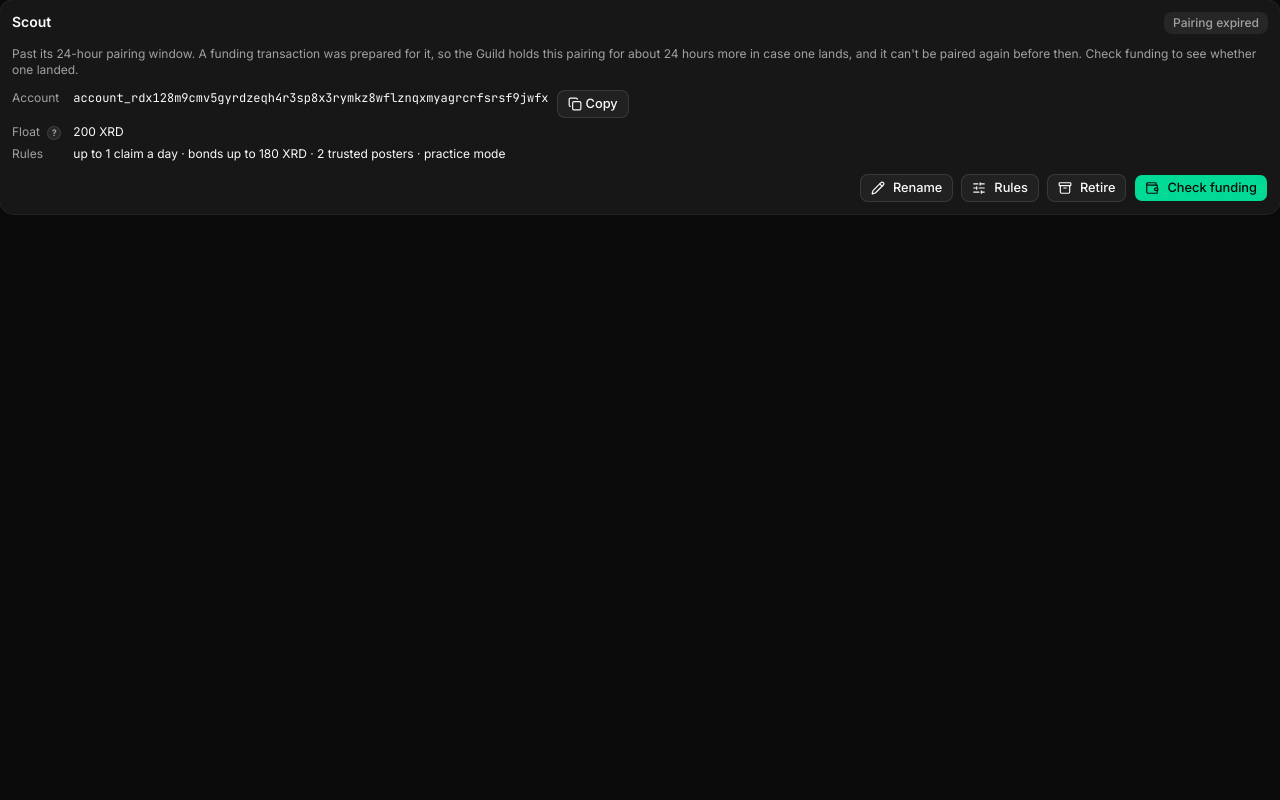
Test case: an expired pairing whose funding may still be landing offers 'Check funding' › with a transaction prepared minutes ago, the note and the explainer are ONE status, and nothing claims 'no funding landed'
Click the button "Check funding" at (1201, 188), box [1134, 174, 1268, 202]
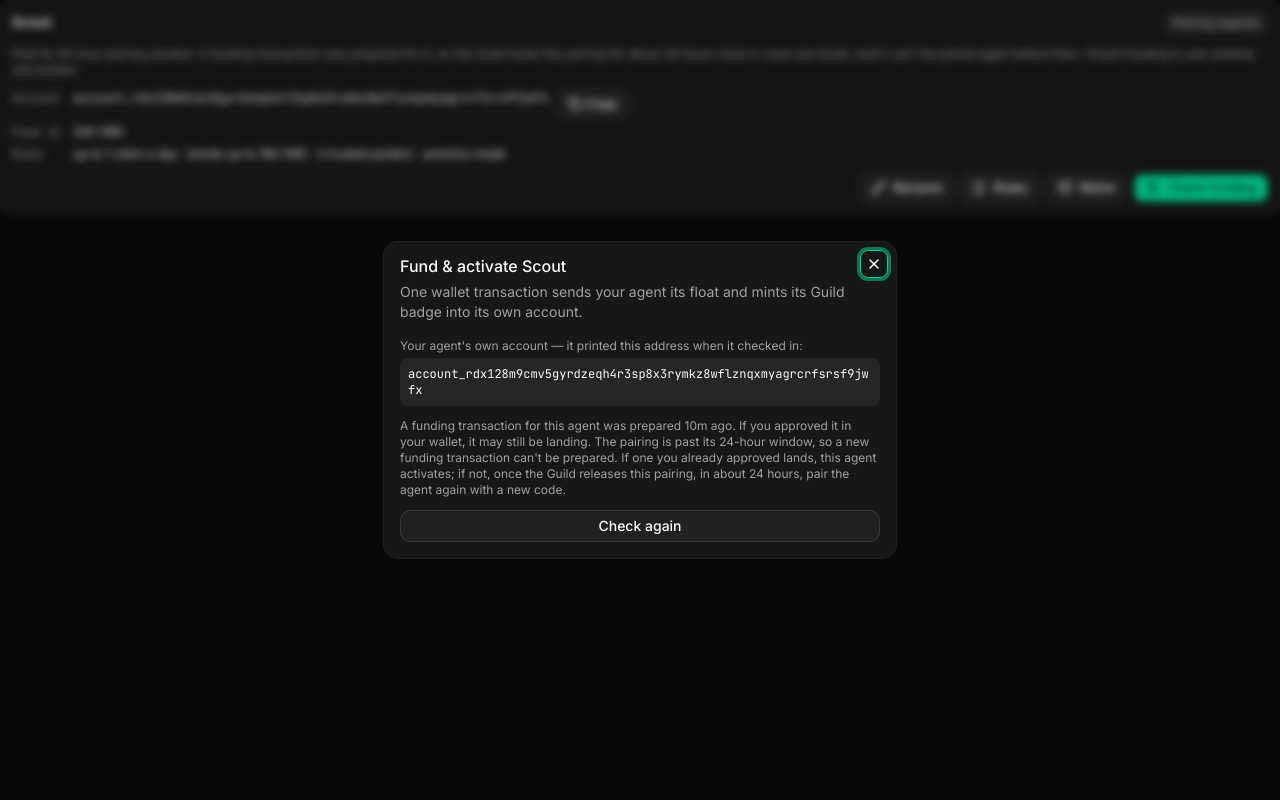
Check: the number of messages is 1, box [400, 418, 880, 498]
Check: the message shows "prepared 10m ago", box [400, 418, 876, 497]
Check: the message shows "can't be prepared", box [400, 418, 876, 497]
